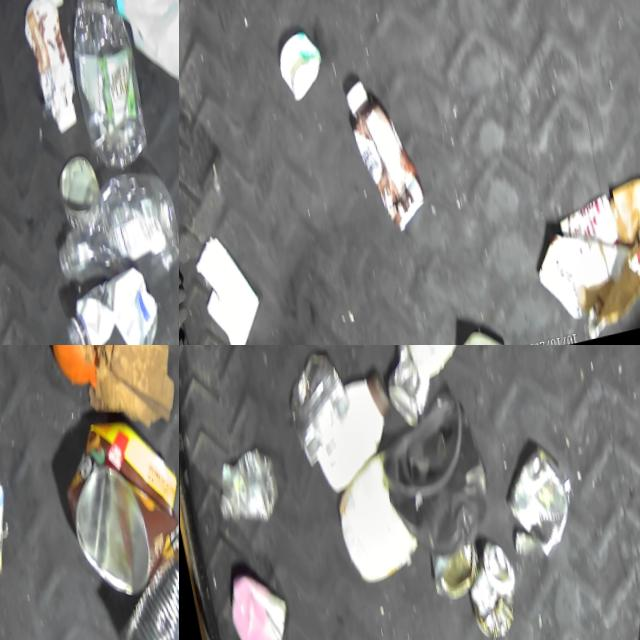can: (51, 409, 179, 610), (498, 447, 581, 570), (104, 543, 179, 640), (459, 539, 524, 640), (374, 345, 435, 434), (223, 566, 295, 640), (50, 153, 105, 232), (425, 544, 485, 609), (0, 462, 17, 586)
milk_jug: (110, 0, 179, 113)
non_white_jug: (371, 388, 499, 569)
plastic_bottle: (45, 169, 179, 298), (58, 0, 151, 179), (209, 445, 284, 535)
